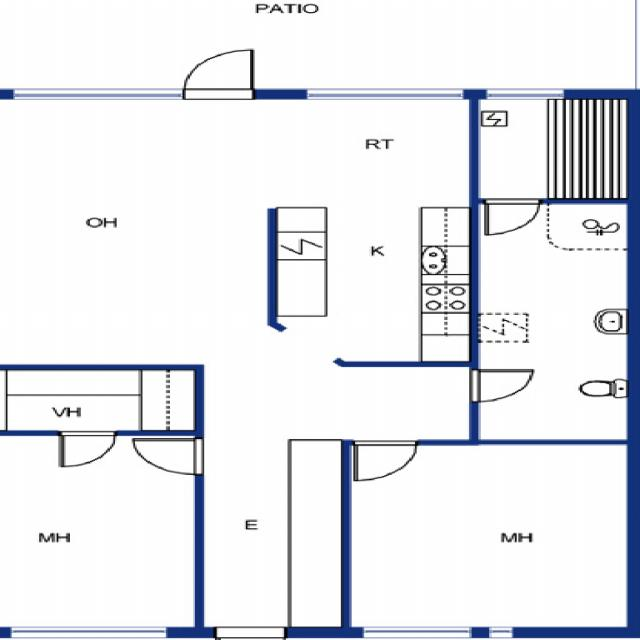door: (184, 50, 252, 100), (356, 439, 416, 479), (134, 440, 203, 474), (469, 369, 534, 402), (485, 199, 539, 235), (60, 430, 113, 465), (214, 627, 285, 640)
